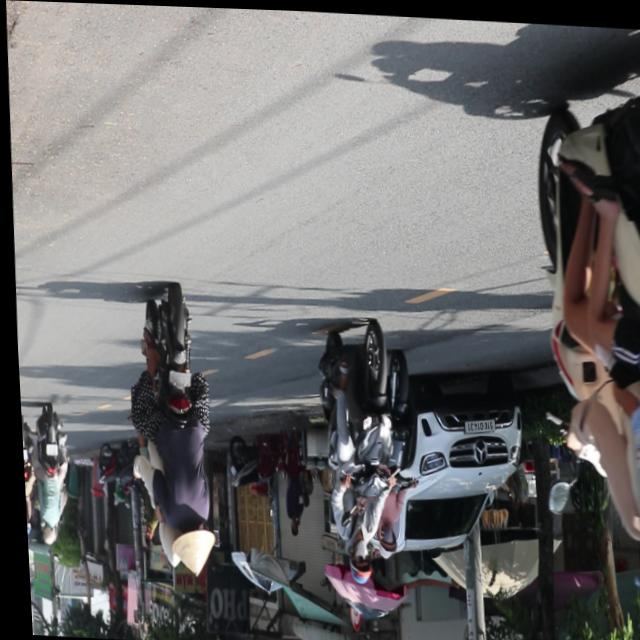helmet: (342, 535, 369, 584), (151, 516, 176, 567), (628, 508, 640, 612), (639, 590, 640, 640)
licenseplate: (515, 18, 640, 640), (120, 281, 216, 577), (306, 316, 400, 591)
motorcyclist: (166, 523, 212, 575)
